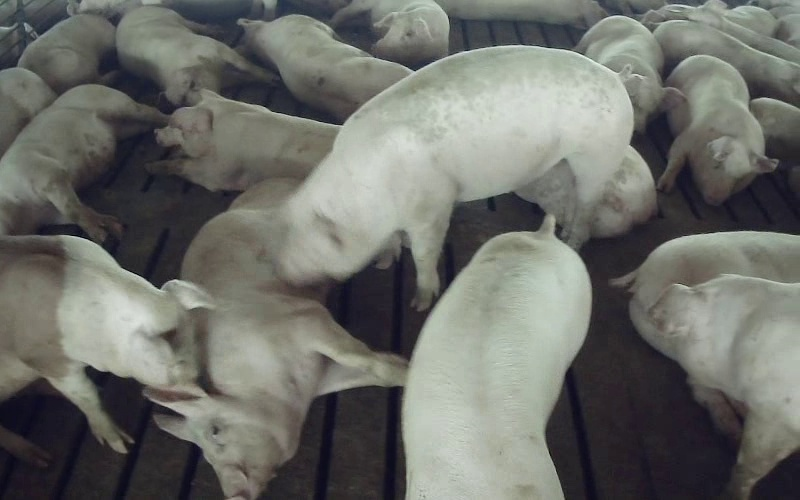pig: (279, 46, 632, 308), (145, 178, 406, 499), (403, 215, 591, 499), (652, 275, 799, 499), (0, 85, 167, 242), (610, 231, 799, 358), (146, 89, 338, 190), (235, 15, 410, 120), (657, 55, 777, 204), (116, 6, 276, 105), (574, 16, 683, 132), (653, 20, 799, 106), (18, 14, 118, 93), (330, 0, 448, 66)
